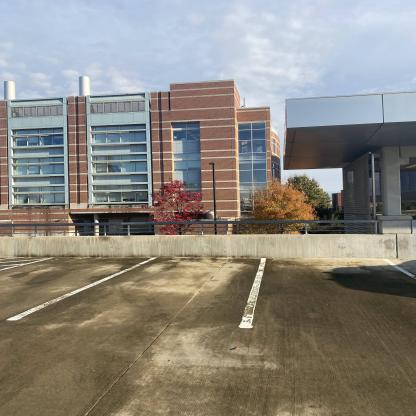EB-1: (6, 74, 313, 234)
